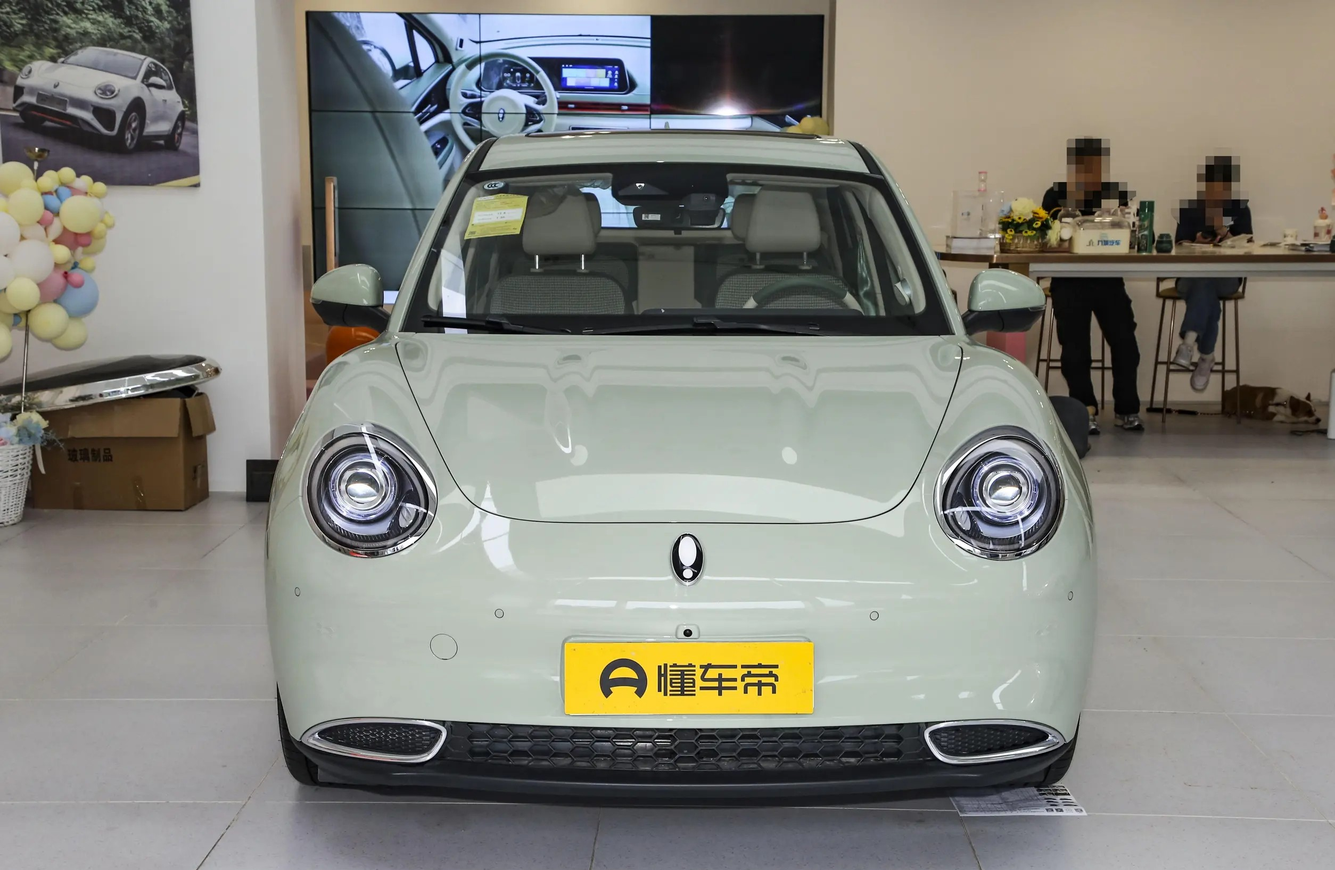ORA: (671, 533, 703, 585)
